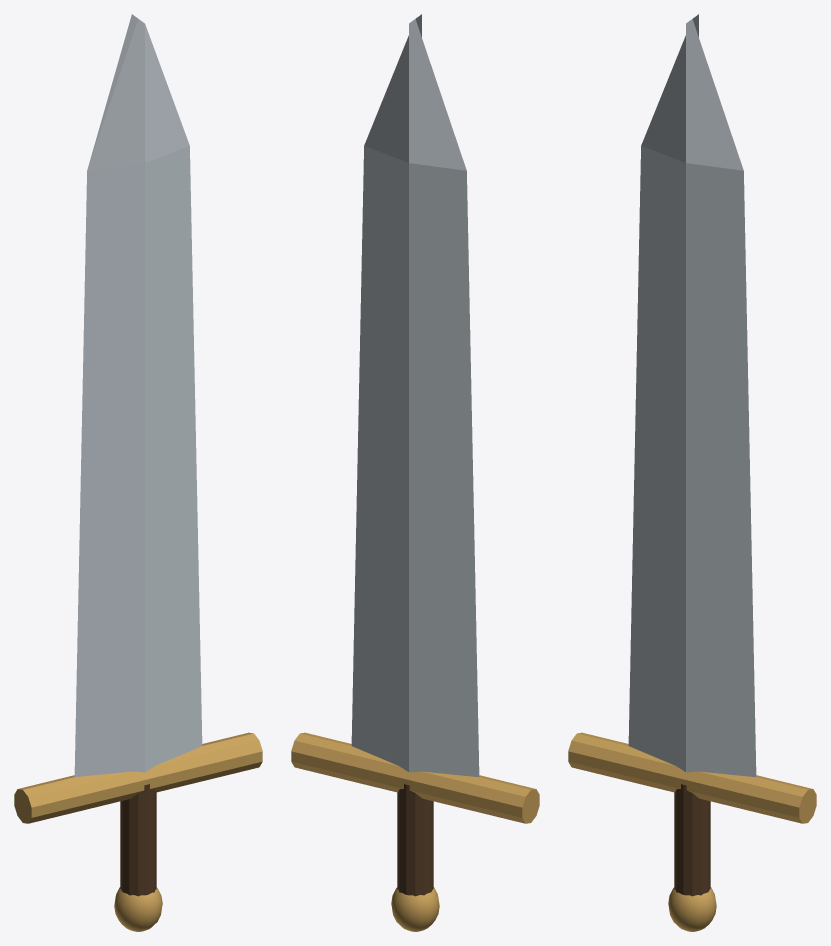
File: heavySword.glb
3 renders of one model, left to right at view 1: azimuth 30°, elevation 25°; view 2: azimuth 150°, elevation 25°; view 3: azimuth 330°, elevation 25°, orthographic.
Visible parts, largest first — view 1: Greatsword_Heavy; view 2: Greatsword_Heavy; view 3: Greatsword_Heavy.
Boxes of the visible parts, left/top/right/bottom form: Greatsword_Heavy: left=14, top=14, right=262, bottom=931; Greatsword_Heavy: left=291, top=14, right=539, bottom=931; Greatsword_Heavy: left=568, top=14, right=816, bottom=931.
Size of the model in its own units: 0.306 by 1.15 by 0.056.
